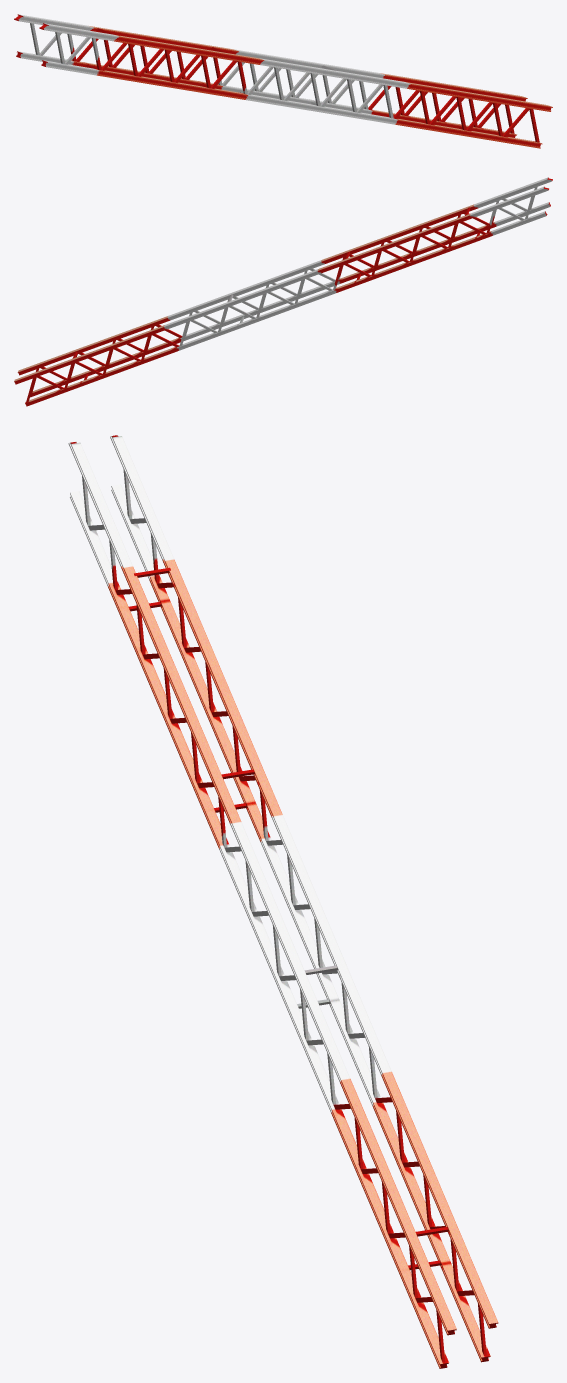
File: kure-n5-arm.obj
3 views of the same model, one above another, from view 1: azimuth 30°, elevation 25°; view 2: azimuth 150°, elevation 25°; view 3: azimuth 270°, elevation 25° (orthographic). The views are drawn at different scales.
Bounding box in the file's own units: 36.61 × 19.92 × 15.22.
1 material, 1 textured.
